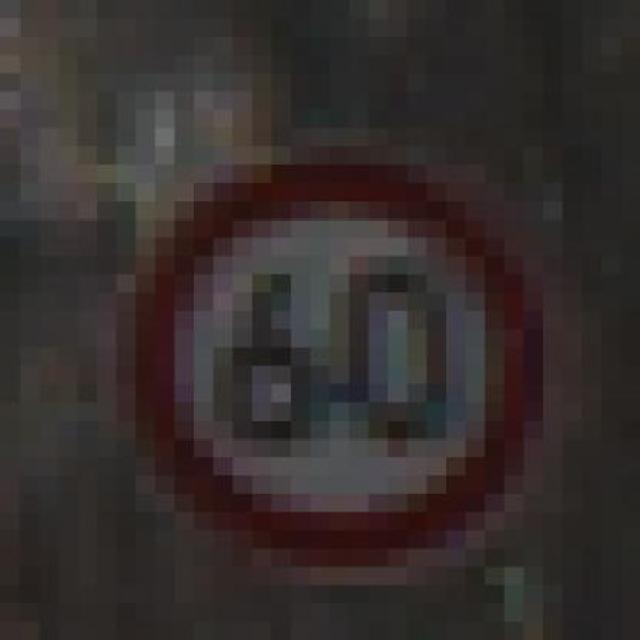forb_speed_over_60: (136, 168, 530, 550)
